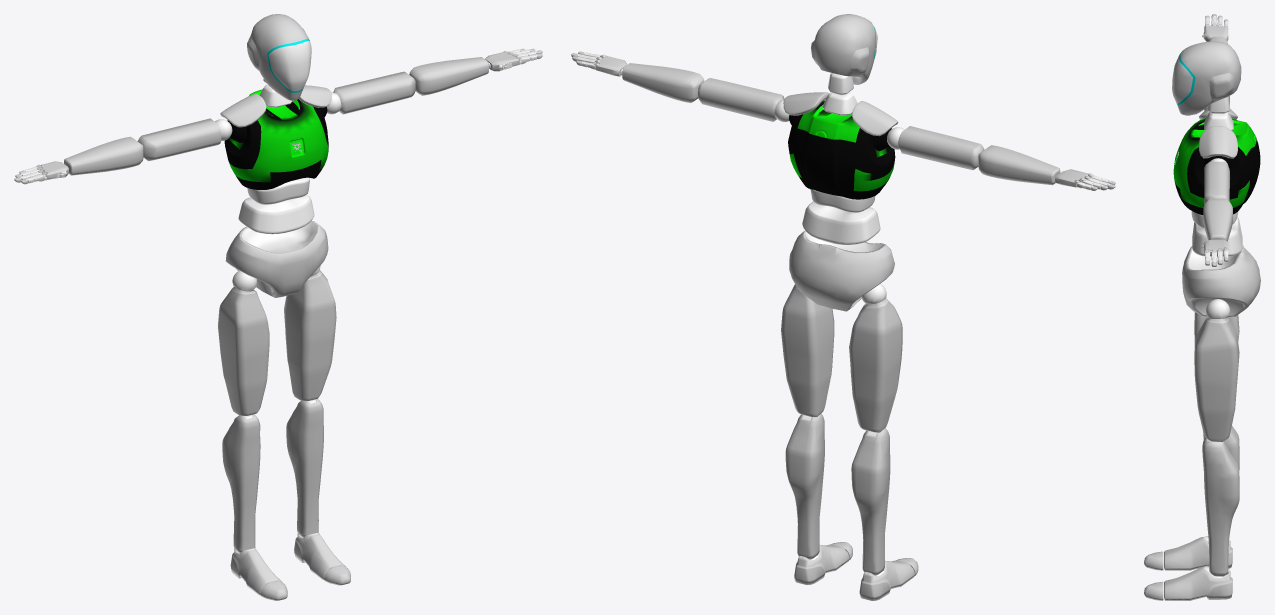
The model's file is PNStudio_Avatar_DefaultSize.fbx.
3 renders of one model, left to right at view 1: azimuth 30°, elevation 25°; view 2: azimuth 150°, elevation 25°; view 3: azimuth 270°, elevation 25°, orthographic. The views are drawn at different scales.
Visible parts, largest first — view 1: SM_Spine6, SM_RightUpLeg, SM_LeftUpLeg, SM_Hips, SM_Head, SM_RightLeg, SM_LeftLeg, SM_RightArm, SM_LeftArm, SM_Spine, SM_RightForeArm, SM_LeftForeArm (+4 smaller); view 2: SM_Spine6, SM_RightUpLeg, SM_Hips, SM_LeftUpLeg, SM_LeftLeg, SM_RightLeg, SM_Head, SM_RightArm, SM_Spine, SM_LeftArm, SM_RightForeArm, SM_LeftForeArm (+5 smaller); view 3: SM_LeftUpLeg, SM_Spine6, SM_Head, SM_Hips, SM_LeftLeg, SM_LeftFoot, SM_RightFoot, SM_LeftForeArm, SM_LeftShoulder, SM_LeftArm, SM_Spine, SM_Neck (+8 smaller).
Part boxes in pixels (bbox=[...]): SM_Spine6: bbox=[224, 89, 328, 189]; SM_RightUpLeg: bbox=[218, 270, 269, 415]; SM_LeftUpLeg: bbox=[284, 266, 336, 401]; SM_Hips: bbox=[225, 220, 328, 297]; SM_Head: bbox=[247, 14, 311, 100]; SM_RightLeg: bbox=[222, 414, 260, 552]; SM_LeftLeg: bbox=[286, 399, 323, 537]; SM_RightArm: bbox=[137, 118, 232, 160]; SM_LeftArm: bbox=[327, 71, 415, 114]; SM_Spine: bbox=[238, 194, 314, 234]; SM_RightForeArm: bbox=[64, 136, 143, 175]; SM_LeftForeArm: bbox=[409, 57, 488, 95]; SM_Spine6: bbox=[788, 100, 895, 199]; SM_RightUpLeg: bbox=[849, 283, 902, 432]; SM_Hips: bbox=[789, 230, 894, 311]; SM_LeftUpLeg: bbox=[781, 284, 834, 417]; SM_LeftLeg: bbox=[785, 413, 824, 559]; SM_RightLeg: bbox=[851, 428, 890, 575]; SM_Head: bbox=[811, 14, 877, 84]; SM_RightArm: bbox=[887, 126, 984, 170]; SM_Spine: bbox=[802, 201, 880, 244]; SM_LeftArm: bbox=[698, 78, 789, 121]; SM_RightForeArm: bbox=[978, 145, 1060, 185]; SM_LeftForeArm: bbox=[622, 63, 704, 102]; SM_LeftUpLeg: bbox=[1194, 299, 1239, 442]; SM_Spine6: bbox=[1173, 117, 1260, 215]; SM_Head: bbox=[1172, 41, 1241, 115]; SM_Hips: bbox=[1182, 245, 1260, 316]; SM_LeftLeg: bbox=[1202, 438, 1239, 576]; SM_LeftFoot: bbox=[1164, 566, 1232, 600]; SM_RightFoot: bbox=[1164, 536, 1232, 570]; SM_LeftForeArm: bbox=[1203, 198, 1232, 241]; SM_LeftShoulder: bbox=[1199, 126, 1237, 158]; SM_LeftArm: bbox=[1204, 158, 1229, 204]; SM_Spine: bbox=[1192, 217, 1242, 256]; SM_Neck: bbox=[1204, 112, 1233, 130].
Bounding box in the file's own units: 183 × 182 × 36.02.
